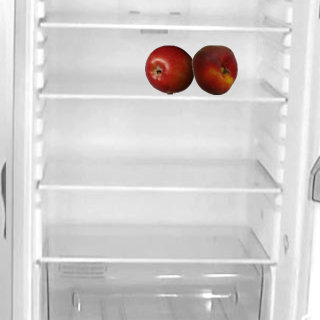Apple Braeburn: (144, 44, 194, 94)
Nectarine Flat: (189, 44, 239, 94)
